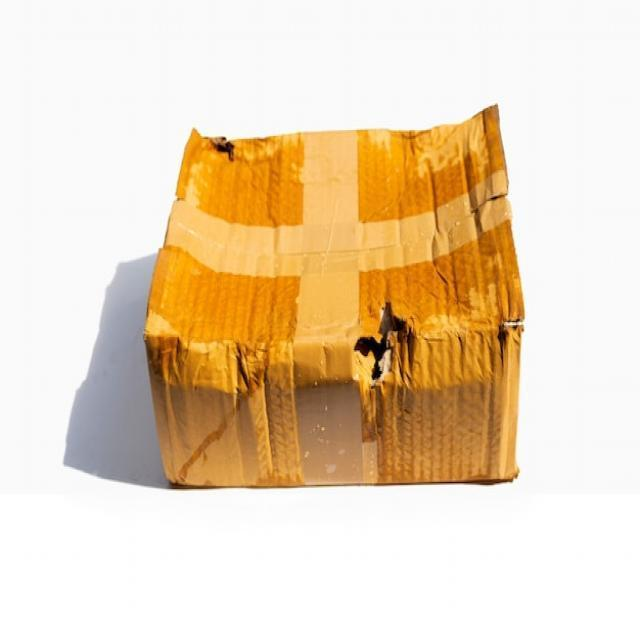damaged: (352, 295, 419, 394), (206, 128, 236, 168)
